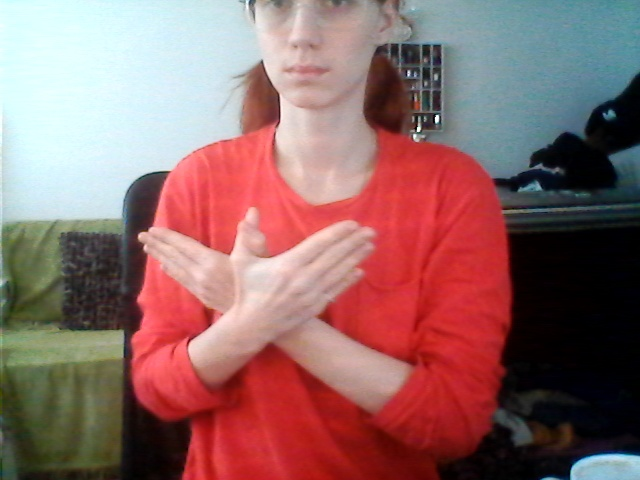lekar: (135, 204, 383, 339)
